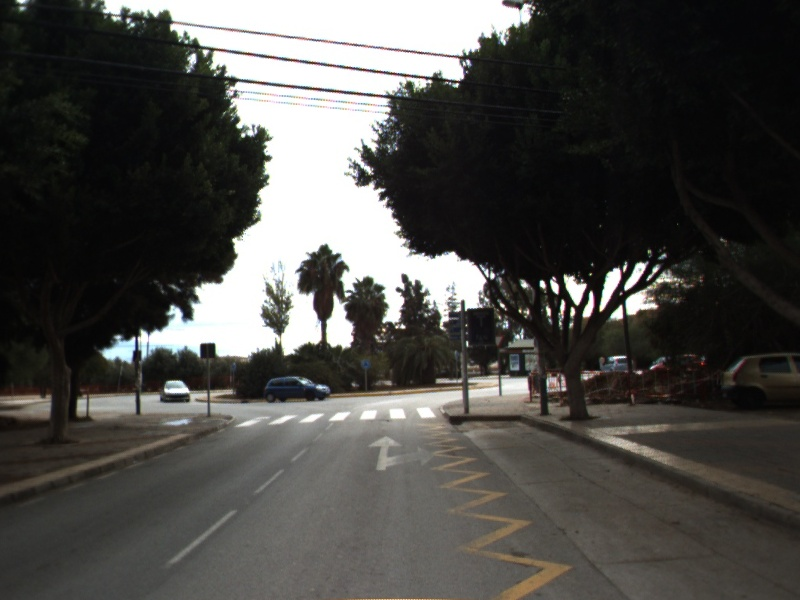STRAIGHT_RIGHT: (365, 434, 437, 472)
